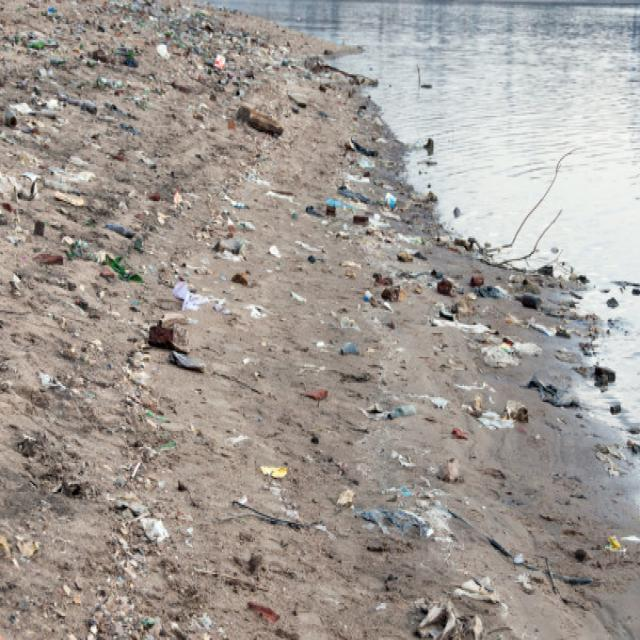garbage: (18, 28, 414, 543)
